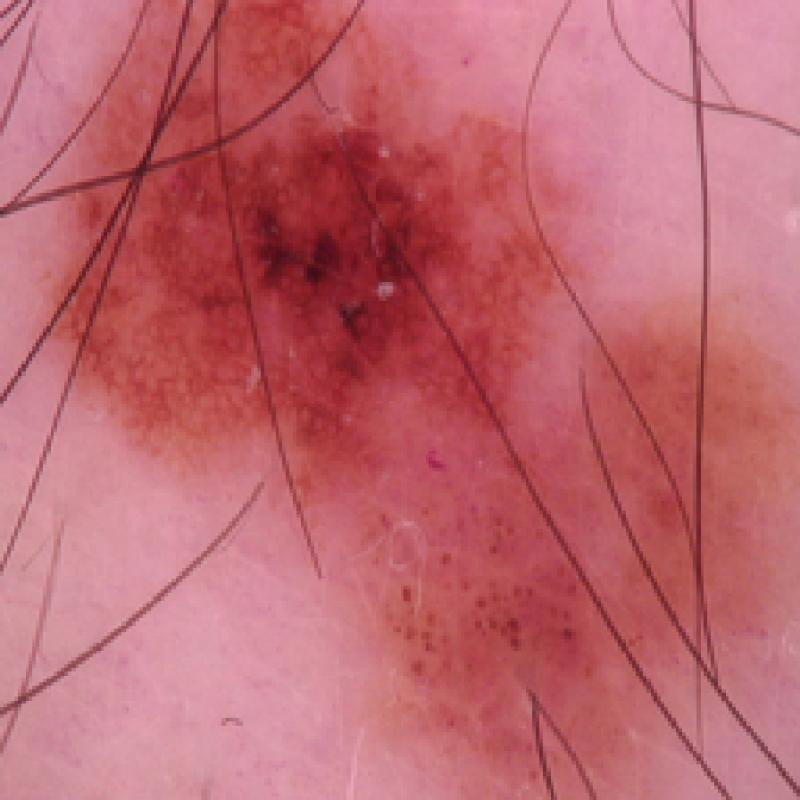benign: (30, 6, 793, 785)
